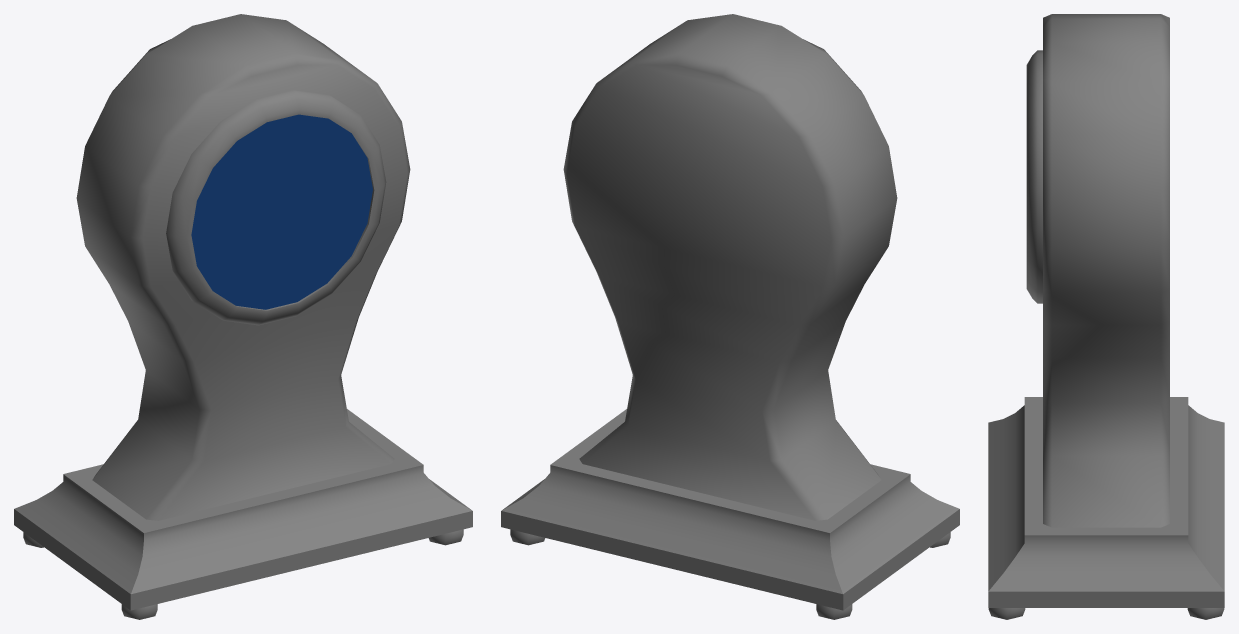
The model's file is uploads_files_3108693_SM_DeskClock.fbx.
The picture shows the model from 3 angles, left to right: view 1: azimuth 30°, elevation 25°; view 2: azimuth 150°, elevation 25°; view 3: azimuth 270°, elevation 25°; orthographic projection.
Visible parts, largest first — view 1: DeskClockBody, DeskClockBottom, Glass, DeskClock_Head; view 2: DeskClockBody, DeskClockBottom; view 3: DeskClockBody, DeskClockBottom, DeskClock_Head, Leg004, Leg006.
Part boxes in pixels (left/top/right/bottom): DeskClockBody: left=76, top=14, right=410, bottom=520; DeskClockBottom: left=14, top=409, right=472, bottom=610; Glass: left=191, top=114, right=372, bottom=309; DeskClock_Head: left=166, top=90, right=386, bottom=325; DeskClockBody: left=563, top=14, right=897, bottom=520; DeskClockBottom: left=501, top=409, right=959, bottom=610; DeskClockBody: left=1043, top=14, right=1169, bottom=527; DeskClockBottom: left=988, top=397, right=1224, bottom=607; DeskClock_Head: left=1026, top=50, right=1042, bottom=303; Leg004: left=988, top=608, right=1025, bottom=619; Leg006: left=1187, top=608, right=1224, bottom=619.
Size of the model in its own units: 22 by 30.7 by 13.
